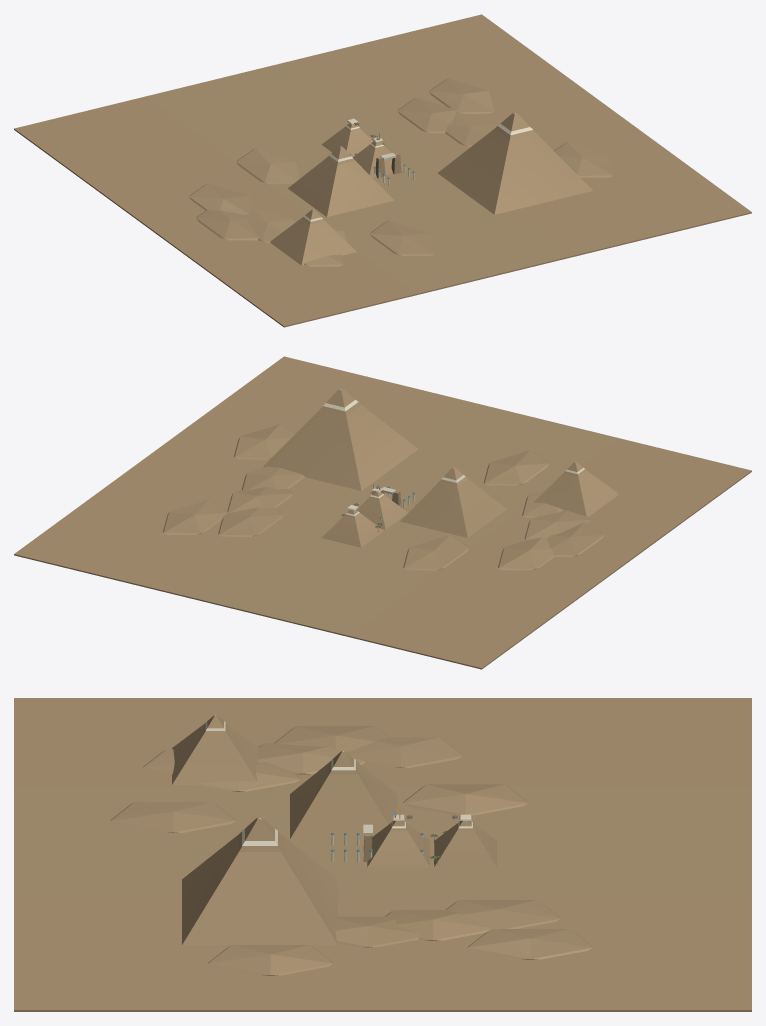
Rendered from pyramids-CSkQY425.glb.
3 views of the same model, one above another, from view 1: azimuth 30°, elevation 25°; view 2: azimuth 150°, elevation 25°; view 3: azimuth 270°, elevation 25° (orthographic). The views are drawn at different scales.
Visible parts, largest first — view 1: Rebuilt_pyramids_Paint_sand, Rebuilt_pyramids_Paint_ivory; view 2: Rebuilt_pyramids_Paint_sand, Rebuilt_pyramids_Paint_ivory; view 3: Rebuilt_pyramids_Paint_sand, Rebuilt_pyramids_Paint_ivory.
Part boxes in pixels (bbox=[...]): Rebuilt_pyramids_Paint_sand: bbox=[14, 14, 751, 327]; Rebuilt_pyramids_Paint_ivory: bbox=[303, 113, 532, 221]; Rebuilt_pyramids_Paint_sand: bbox=[14, 356, 751, 669]; Rebuilt_pyramids_Paint_ivory: bbox=[323, 389, 584, 519]; Rebuilt_pyramids_Paint_sand: bbox=[14, 698, 751, 1011]; Rebuilt_pyramids_Paint_ivory: bbox=[205, 715, 472, 861].
Bounding box in the file's own units: 750 × 116 × 750.
